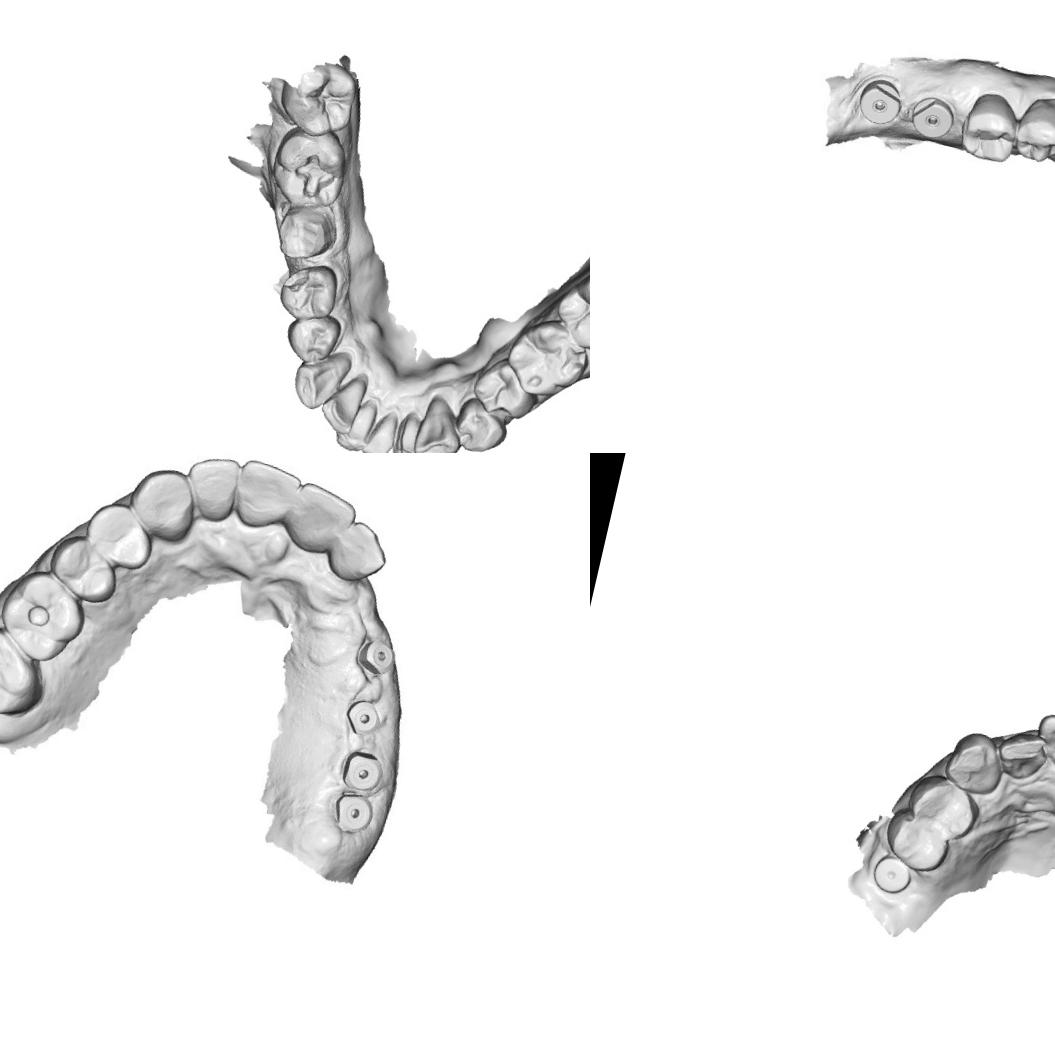canine: (125, 460, 203, 544), (940, 726, 1012, 799), (286, 343, 354, 416), (410, 391, 471, 453)
crown: (271, 196, 344, 268)
implant: (851, 71, 907, 131), (904, 90, 960, 146), (341, 746, 389, 800), (352, 629, 401, 677), (868, 852, 915, 898), (342, 694, 387, 742), (330, 792, 374, 836)
incisor: (223, 453, 309, 538), (286, 478, 360, 558), (176, 453, 244, 530), (324, 517, 394, 590), (992, 726, 1054, 787), (316, 370, 370, 439), (332, 393, 381, 453), (359, 403, 401, 453), (387, 407, 428, 453), (1029, 706, 1055, 773)
inlay: (287, 146, 342, 205)
molar: (0, 563, 93, 669), (499, 310, 590, 406), (272, 54, 364, 145), (0, 620, 54, 724), (547, 260, 590, 363)
premolar: (42, 530, 126, 610), (78, 494, 161, 574), (900, 768, 985, 844), (955, 86, 1026, 168), (877, 806, 956, 878), (468, 350, 544, 424), (272, 255, 345, 328), (280, 306, 345, 368), (448, 393, 514, 453), (1009, 90, 1055, 170)
